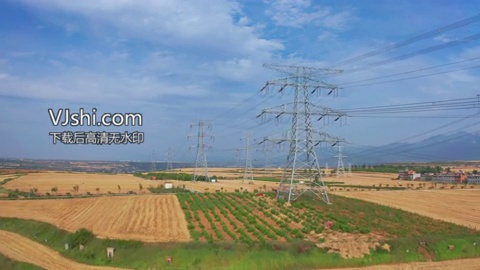tower_body: (258, 58, 354, 206), (188, 116, 218, 182)
tower_foot: (276, 173, 330, 204)
tower_head: (260, 60, 349, 95)
